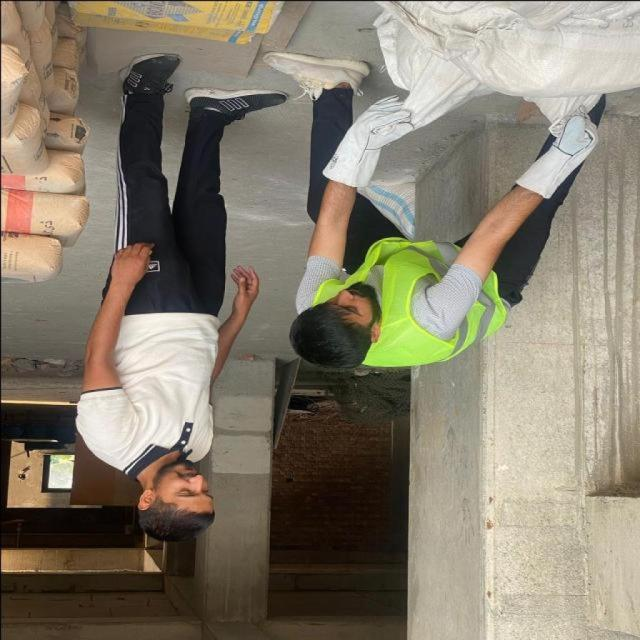Gloves-Detection: (324, 105, 399, 186), (517, 119, 580, 194)
